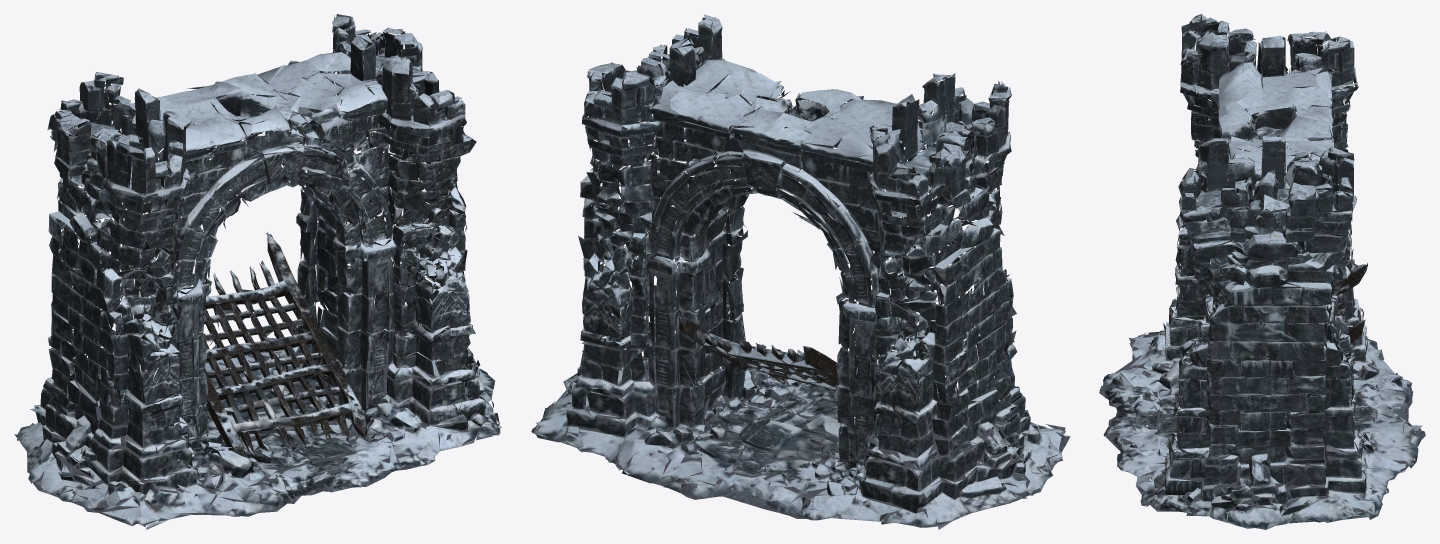
Rendered from gate.glb.
3 renders of one model, left to right at view 1: azimuth 30°, elevation 25°; view 2: azimuth 150°, elevation 25°; view 3: azimuth 270°, elevation 25°, orthographic. The views are drawn at different scales.
Visible parts, largest first — view 1: Mesh_0; view 2: Mesh_0; view 3: Mesh_0.
Boxes of the visible parts, x1,y1,x2,y2 form: Mesh_0: [14, 14, 501, 529]; Mesh_0: [531, 14, 1070, 529]; Mesh_0: [1099, 14, 1425, 529].
Size of the model in its own units: 9.07 by 6.98 by 6.
Materials: 1 (1 with a texture image).
